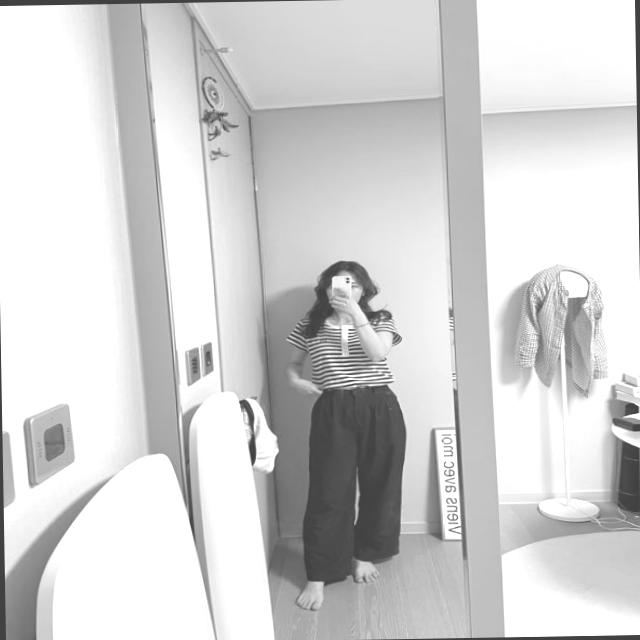shortsleeve: (284, 312, 400, 396)
slacks: (306, 382, 414, 578)
